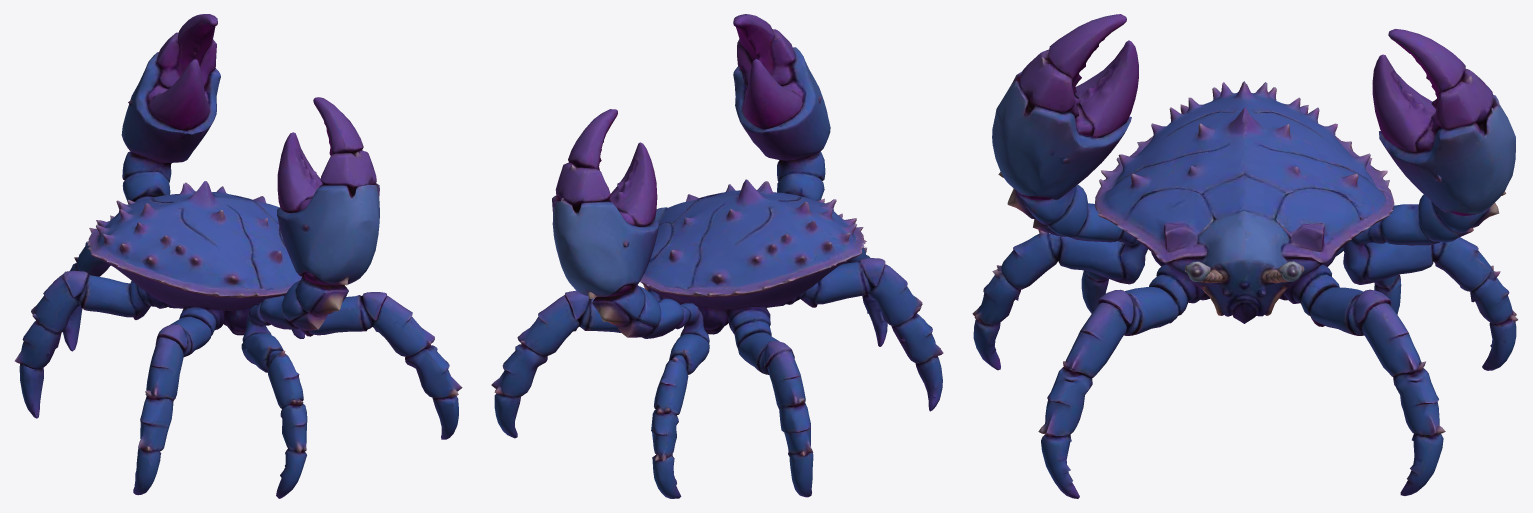
The model's file is coconutCrab.glb.
3 renders of one model, left to right at view 1: azimuth 30°, elevation 25°; view 2: azimuth 150°, elevation 25°; view 3: azimuth 270°, elevation 25°, orthographic. The views are drawn at different scales.
Parts seen in each view (by area): view 1: geometry_0; view 2: geometry_0; view 3: geometry_0.
Boxes of the visible parts, bbox=[...] form: geometry_0: bbox=[14, 14, 462, 498]; geometry_0: bbox=[491, 14, 943, 498]; geometry_0: bbox=[972, 14, 1517, 498].
Size of the model in its own units: 0.7692 by 0.8527 by 0.9966.
Materials: 1 (1 with a texture image).
